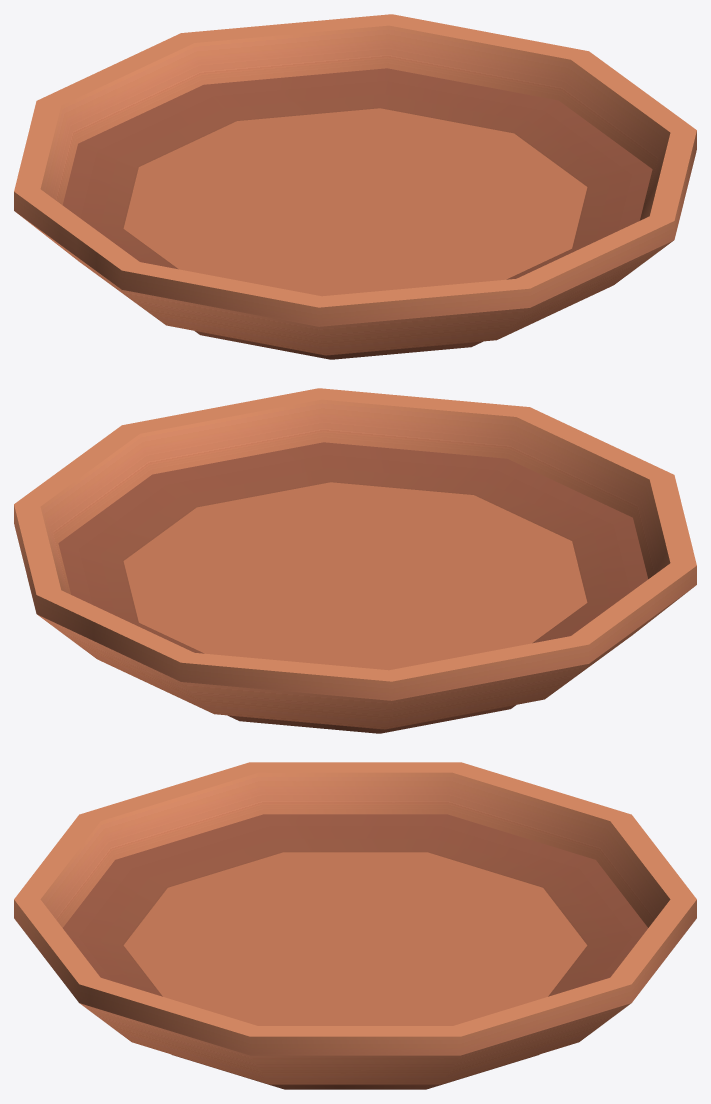
The model's file is tajine.glb.
3 views of the same model, one above another, from view 1: azimuth 30°, elevation 25°; view 2: azimuth 150°, elevation 25°; view 3: azimuth 270°, elevation 25° (orthographic). The views are drawn at different scales.
Parts seen in each view (by area): view 1: tajine; view 2: tajine; view 3: tajine.
Boxes of the visible parts, left/top/right/bottom form: tajine: left=14, top=14, right=696, bottom=359; tajine: left=14, top=388, right=696, bottom=733; tajine: left=14, top=762, right=696, bottom=1089.
Size of the model in its own units: 0.8191 by 0.1379 by 0.8613.
Materials: 1 (1 with a texture image).
